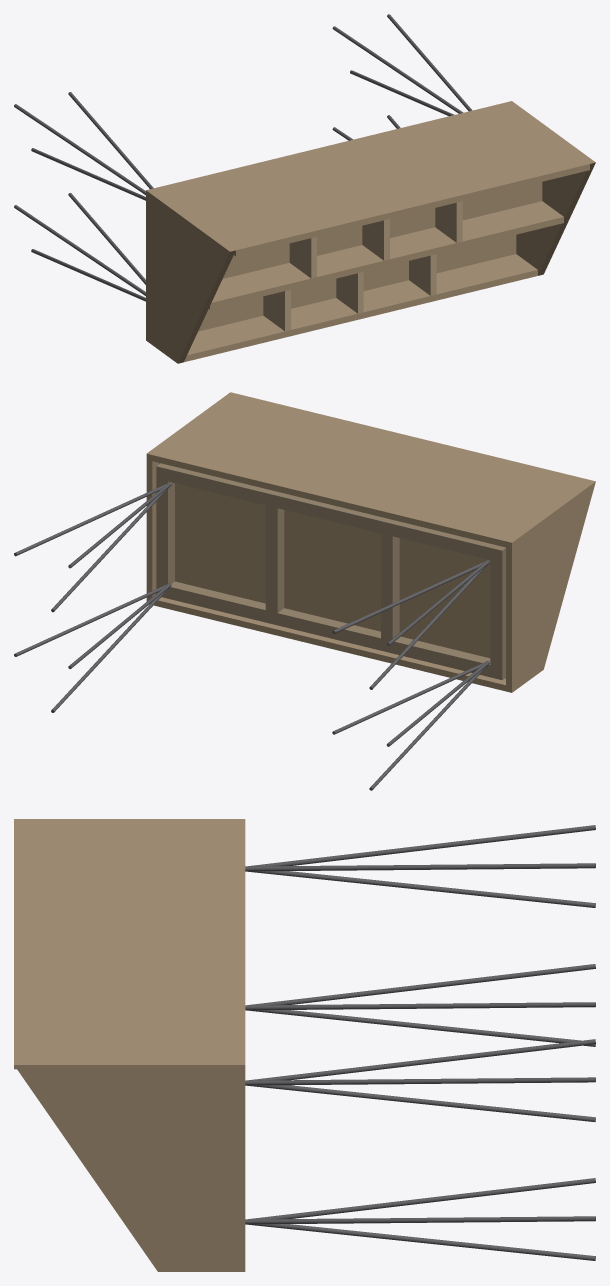
The model's file is vinyl_record_storage.glb.
3 renders of one model, top to bottom at view 1: azimuth 30°, elevation 25°; view 2: azimuth 150°, elevation 25°; view 3: azimuth 270°, elevation 25°, orthographic. The views are drawn at different scales.
Parts seen in each view (by area): view 1: back, side_left, shelf_divider, front, back_shelf_bottom, bottom, side_right, leg_back_left, leg_front_left, leg_back_right, front_divider_3, back_divider_3 (+4 smaller); view 2: back, bottom, side_left, frame_front, frame_back, front, frame_left, frame_right, frame_cross_2, side_right, leg_back_right, leg_front_left (+3 smaller); view 3: back, side_right, leg_front_right, leg_back_left, leg_back_right, leg_front_left, side_left.
Boxes of the visible parts, x1,y1,x2,y2 form: back: (152, 102, 589, 256); side_left: (146, 189, 235, 363); shelf_divider: (209, 201, 563, 309); front: (184, 254, 537, 362); back_shelf_bottom: (223, 182, 542, 278); bottom: (198, 235, 516, 331); side_right: (506, 101, 595, 275); leg_back_left: (14, 92, 153, 200); leg_front_left: (14, 193, 145, 301); leg_back_right: (332, 14, 472, 116); front_divider_3: (409, 254, 436, 295); back_divider_3: (435, 201, 462, 242); back: (152, 393, 589, 547); bottom: (159, 463, 505, 678); side_left: (506, 480, 595, 692); frame_front: (168, 581, 490, 677); frame_back: (168, 466, 494, 559); front: (153, 597, 505, 691); frame_left: (490, 545, 505, 679); frame_right: (156, 463, 174, 598); frame_cross_2: (265, 505, 284, 612); side_right: (146, 392, 235, 601); leg_back_right: (14, 482, 171, 612); leg_front_left: (332, 661, 489, 790); back: (14, 823, 245, 1069); side_right: (14, 1061, 245, 1271); leg_front_right: (245, 1178, 595, 1260); leg_back_left: (245, 825, 595, 907); leg_back_right: (245, 1039, 595, 1121); leg_front_left: (245, 964, 595, 1046); side_left: (14, 819, 245, 822).
Size of the model in its own units: 47.83 by 19.25 by 46.53.
